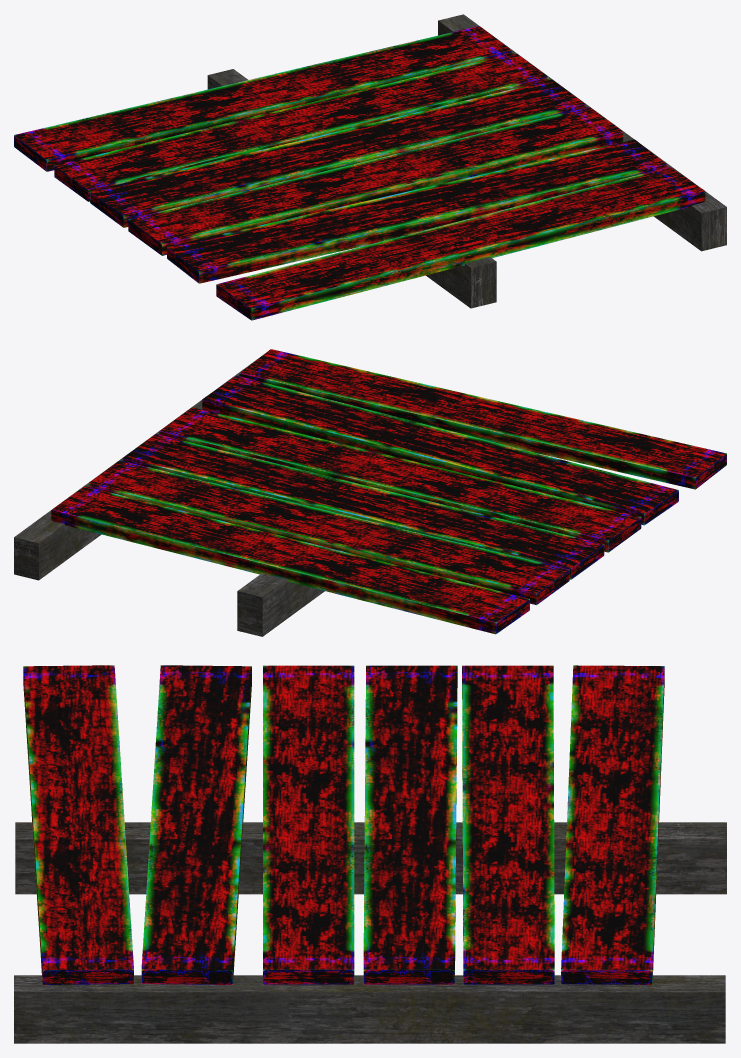
Rendered from SM_PlankCeiling-2_2.fbx.
3 views of the same model, one above another, from view 1: azimuth 30°, elevation 25°; view 2: azimuth 150°, elevation 25°; view 3: azimuth 270°, elevation 25° (orthographic). The views are drawn at different scales.
Parts seen in each view (by area): view 1: SM_PlankCeiling-2_2_LOD0; view 2: SM_PlankCeiling-2_2_LOD0; view 3: SM_PlankCeiling-2_2_LOD0.
Boxes of the visible parts, left/top/right/bottom form: SM_PlankCeiling-2_2_LOD0: left=14, top=14, right=726, bottom=320; SM_PlankCeiling-2_2_LOD0: left=14, top=349, right=726, bottom=636; SM_PlankCeiling-2_2_LOD0: left=14, top=665, right=726, bottom=1043.
Size of the model in its own units: 307 by 297 by 31.31.
